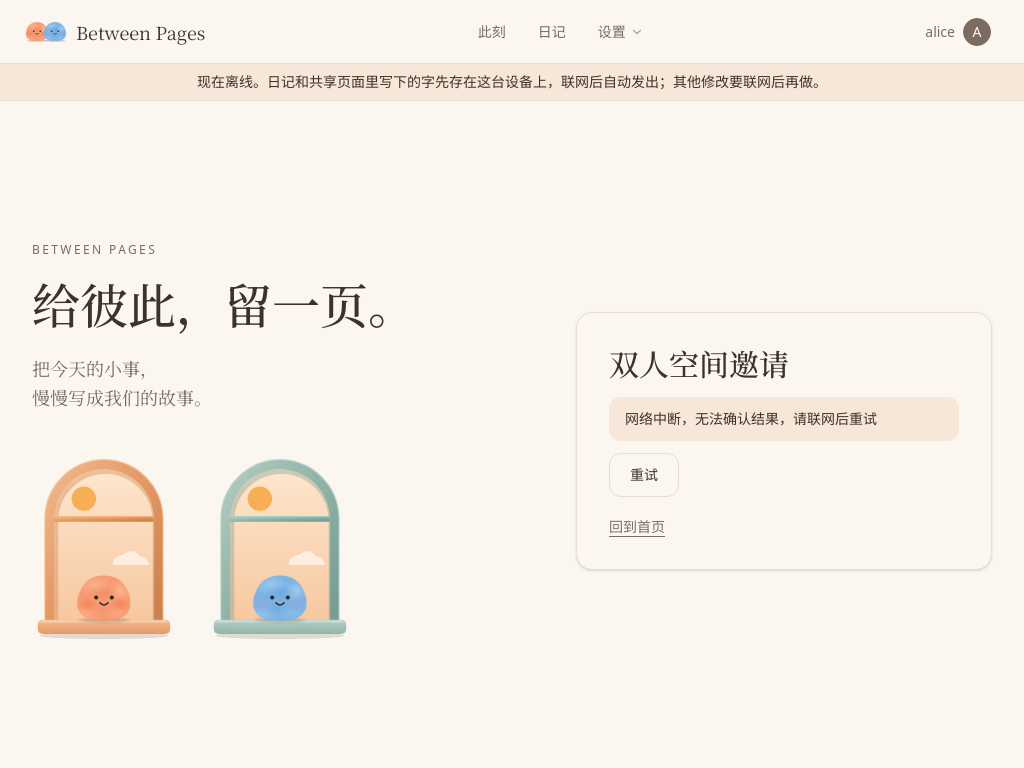
JoinPage › forgets a token the server refuses for good, and keeps it after a network failure
Expected: the message "网络中断，无法确认结果，请联网后重试" is shown, [609,397,959,441]
Click the button "重试": (644, 475) [609,453,679,497]
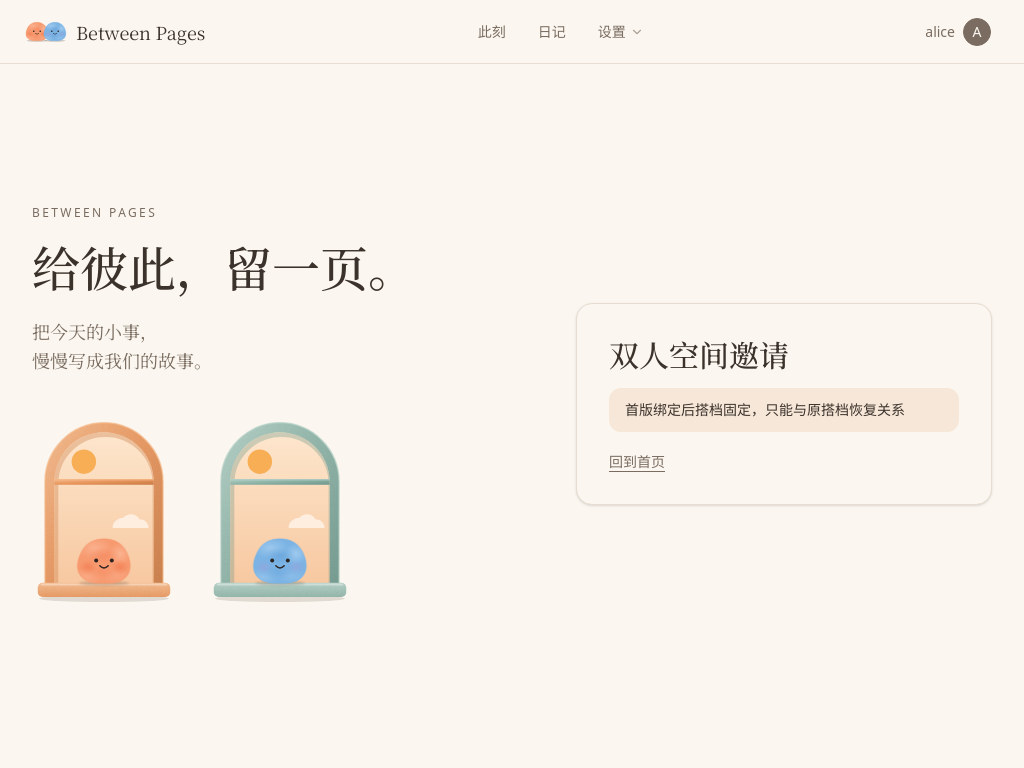
Now the text "首版绑定后搭档固定，只能与原搭档恢复关系" is shown, box [609,388,959,432]
